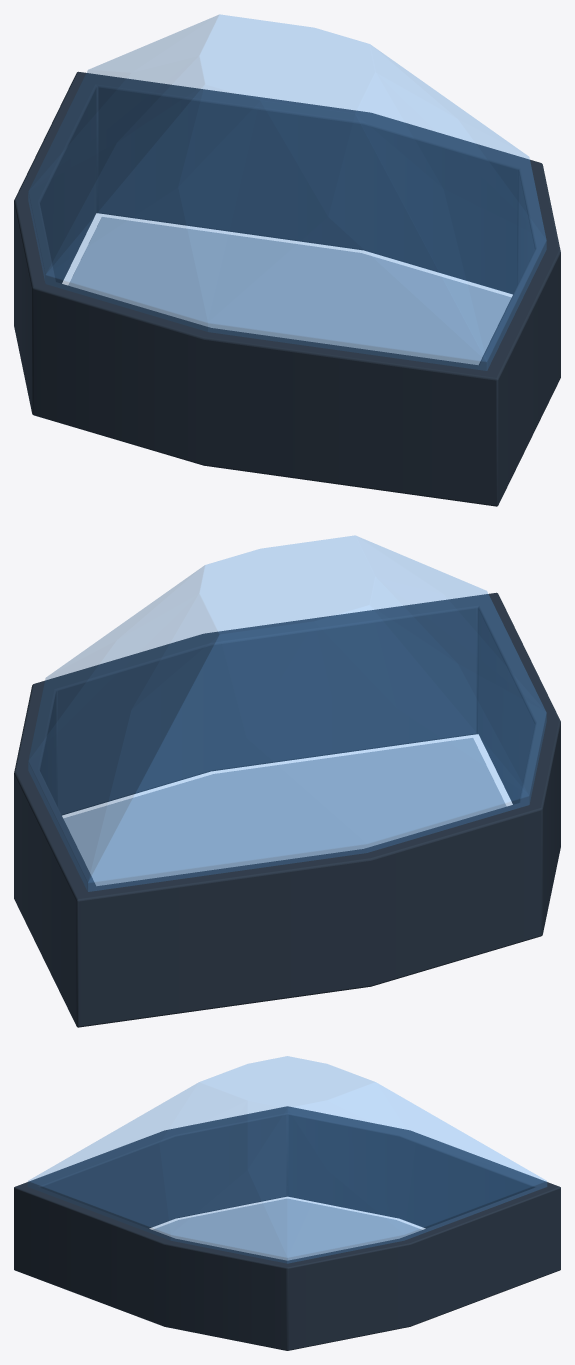
File: mana-crystal-ready.glb
3 views of the same model, one above another, from view 1: azimuth 30°, elevation 25°; view 2: azimuth 150°, elevation 25°; view 3: azimuth 270°, elevation 25° (orthographic). The views are drawn at different scales.
Visible parts, largest first — view 1: MODEL_Blackened silver basket, MODEL_Brilliant cut sapphire, MODEL_Pavilion reflector; view 2: MODEL_Blackened silver basket, MODEL_Brilliant cut sapphire, MODEL_Pavilion reflector; view 3: MODEL_Blackened silver basket, MODEL_Brilliant cut sapphire, MODEL_Pavilion reflector.
Part boxes in pixels (x1,y1,x2,y2): MODEL_Blackened silver basket: [14, 71, 560, 506]; MODEL_Brilliant cut sapphire: [28, 14, 546, 370]; MODEL_Pavilion reflector: [68, 217, 511, 364]; MODEL_Blackened silver basket: [14, 592, 560, 1027]; MODEL_Brilliant cut sapphire: [28, 535, 546, 891]; MODEL_Pavilion reflector: [63, 738, 506, 885]; MODEL_Blackened silver basket: [14, 1106, 560, 1350]; MODEL_Brilliant cut sapphire: [28, 1056, 546, 1263]; MODEL_Pavilion reflector: [153, 1198, 421, 1260].
Bounding box in the file's own units: 0.0295 × 0.016 × 0.0421.
